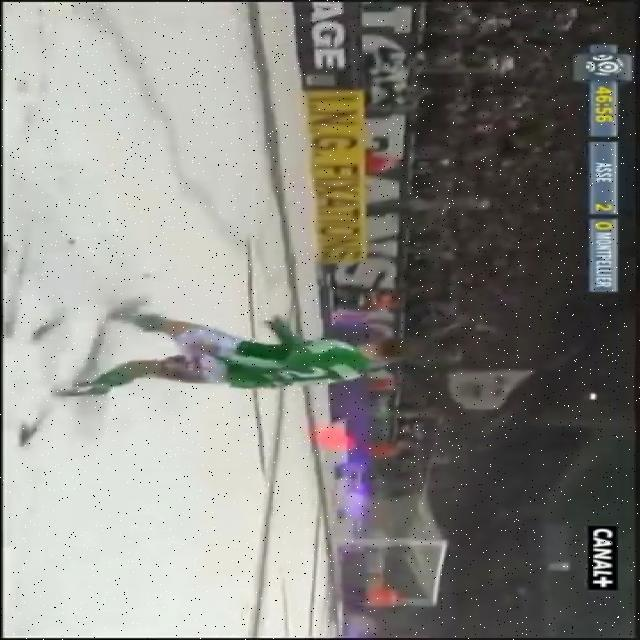goalkeeper: (325, 581, 428, 615)
player: (48, 301, 436, 421)
